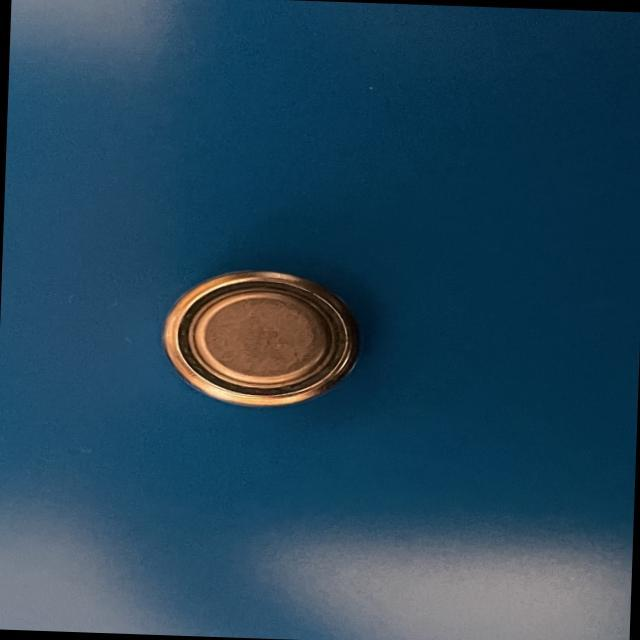COIN: (160, 266, 364, 410)
